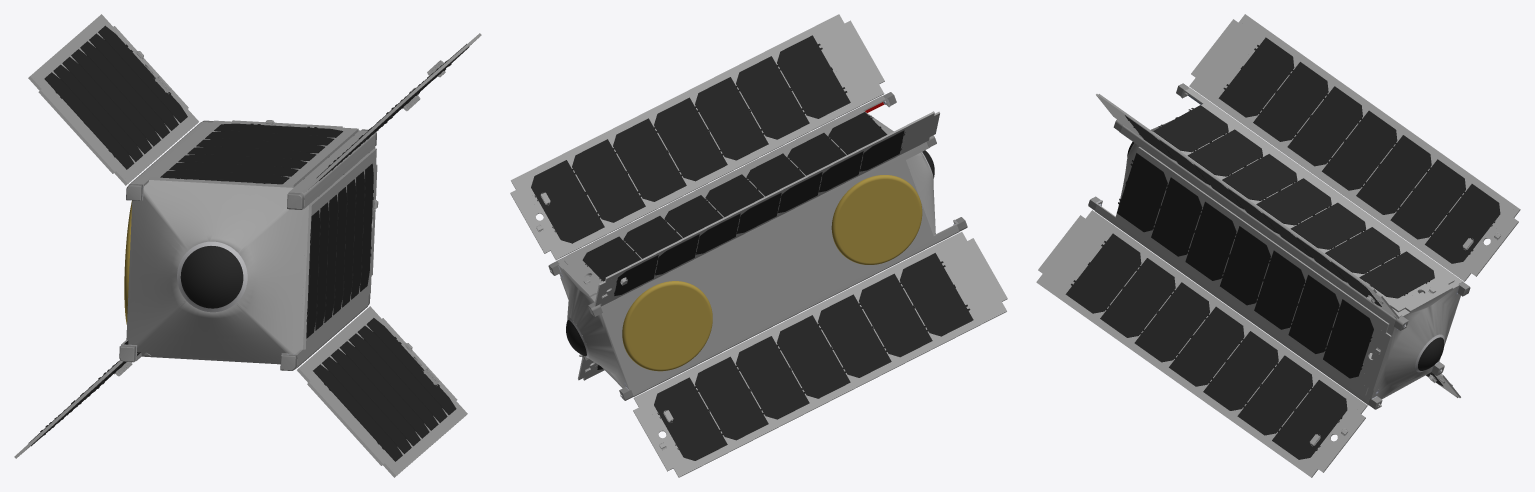
The model's file is cubesat_vr.glb.
3 renders of one model, left to right at view 1: azimuth 30°, elevation 25°; view 2: azimuth 150°, elevation 25°; view 3: azimuth 270°, elevation 25°, orthographic. The views are drawn at different scales.
Visible parts, largest first — view 1: Object_4, Object_2, Object_6, Object_5, Object_7, Object_3; view 2: Object_3, Object_5, Object_4, Object_2, Object_6; view 3: Object_4, Object_2, Object_6, Object_7, Object_3, Object_5.
Boxes of the visible parts, left/top/right/bottom form: Object_4: left=30, top=14, right=376, bottom=370; Object_2: left=149, top=120, right=378, bottom=349; Object_6: left=18, top=306, right=467, bottom=477; Object_5: left=14, top=122, right=375, bottom=458; Object_7: left=300, top=46, right=469, bottom=474; Object_3: left=28, top=15, right=481, bottom=193; Object_3: left=510, top=14, right=939, bottom=371; Object_5: left=557, top=96, right=1007, bottom=477; Object_4: left=548, top=92, right=967, bottom=400; Object_2: left=560, top=109, right=887, bottom=375; Object_6: left=578, top=234, right=997, bottom=474; Object_4: left=1088, top=14, right=1519, bottom=409; Object_2: left=1115, top=103, right=1454, bottom=398; Object_6: left=1036, top=210, right=1460, bottom=477; Object_7: left=1038, top=164, right=1381, bottom=474; Object_3: left=1096, top=16, right=1520, bottom=318; Object_5: left=1095, top=92, right=1463, bottom=407.
Size of the model in its own units: 40.07 by 31.04 by 43.16.
